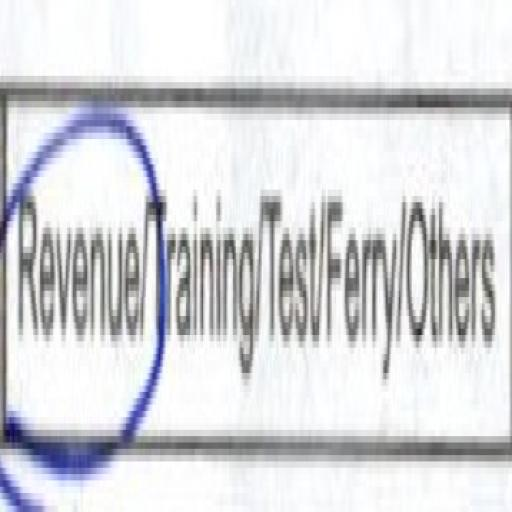check: (0, 38, 146, 512)
